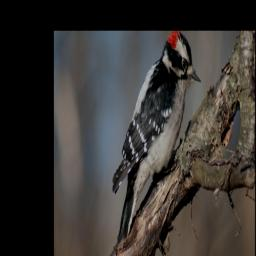Woodpecker: (112, 32, 204, 249)
